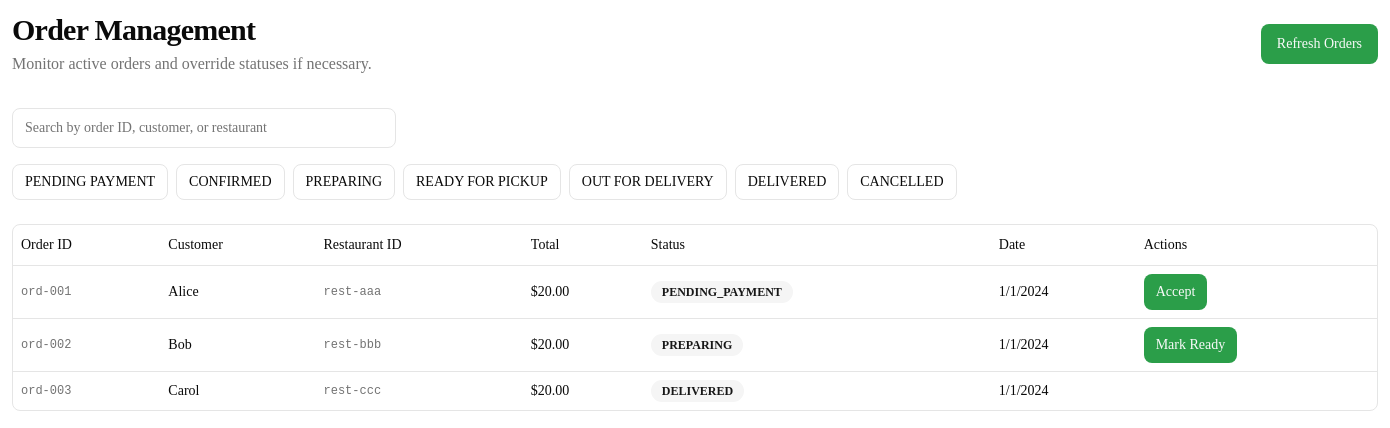
Test: Orders page (Req 16.1, 16.2, 16.5, 16.6, 16.7) › filters the list by a selected status chip (Req 16.3)
The width and height of the screenshot is (1390, 428).
expect the text "Alice" is shown: met, box 160,265 -> 316,318
expect the text "Bob" is shown: met, box 160,318 -> 316,371
What coordinates should you click on to do the following:
click the button "PREPARING"
I would click on:
 (344, 182)
Its box is 292,164 -> 395,200.
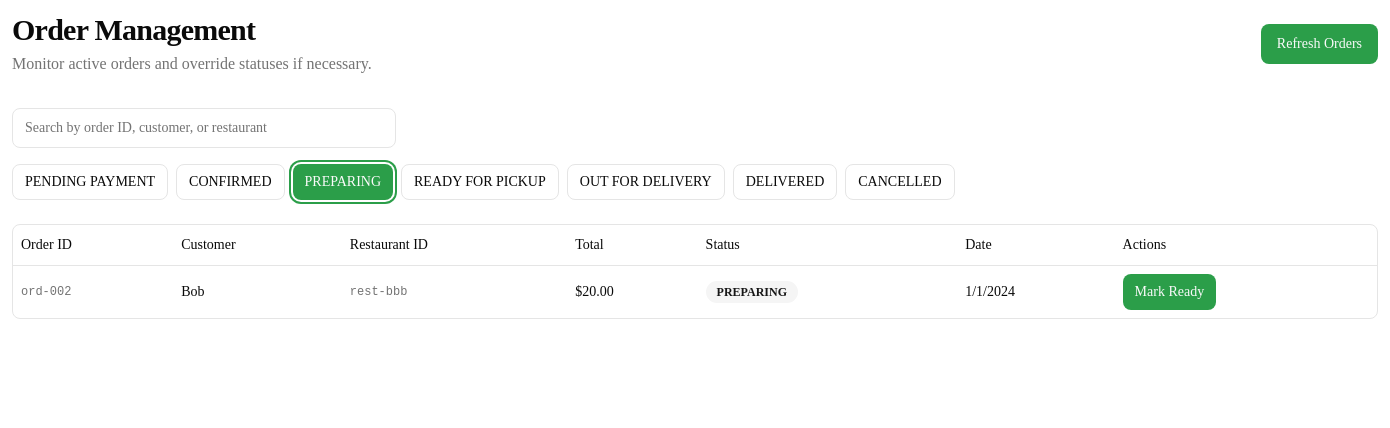
expect the text "Bob" is shown: met, box 173,265 -> 342,318
expect the text "Alice" is gone: met
expect the text "Carol" is gone: met
